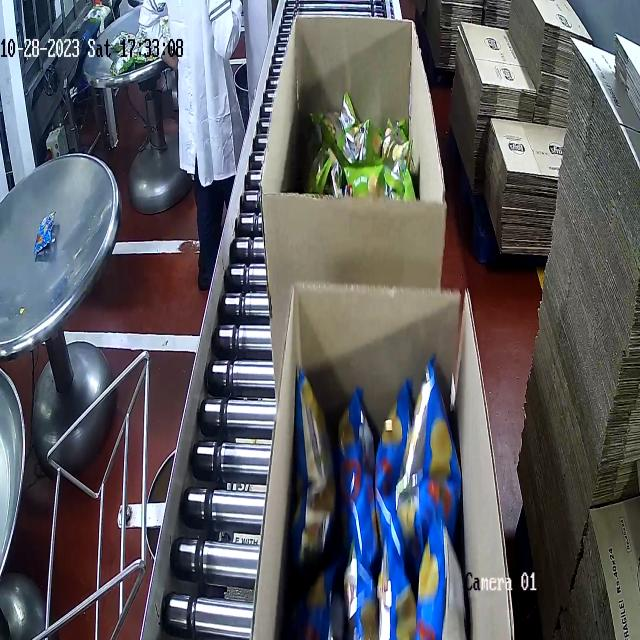PAPRIKA: (285, 367, 499, 640)
